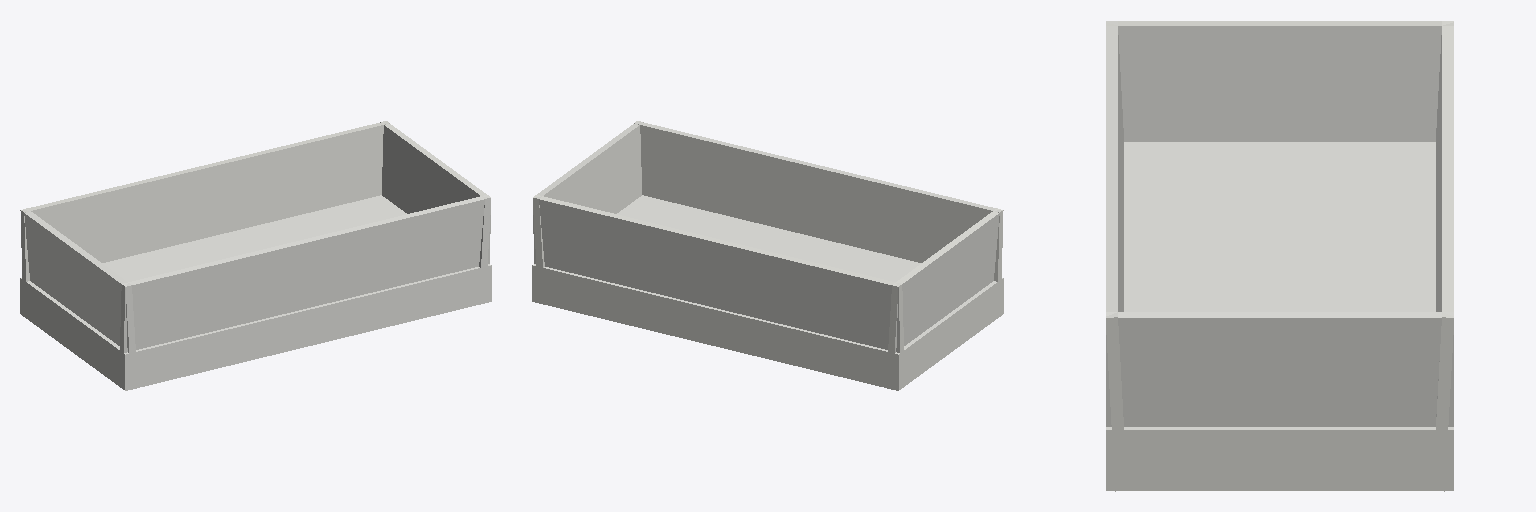
The robot description file, URDF, robot "cb_utensil_bin_hw":
<?xml version="1.0"?>
<!-- Wide chopstick tray: utensil_bin_h with side walls 25.0 mm further out per side (FoundationTouch
     tools/contactbench/make_tray_wide.py); collision = exact boxes, visual = the collision boxes (was: printed mesh scaled y x1.8784. -->
<robot name="cb_utensil_bin_hw">
  <material name="c"><color rgba="0.92 0.92 0.90 1.0"/></material>
  <link name="receptive">
    <visual><origin xyz="0.000000 0.000000 -0.009250" rpy="0.000000 0.000000 0.000000"/><geometry><box size="0.225487 0.112008 0.021500"/></geometry><material name="c"/></visual>
    <visual><origin xyz="0.000000 0.052461 0.010650" rpy="-0.050058 0.000000 0.000000"/><geometry><box size="0.225487 0.004000 0.061577"/></geometry><material name="c"/></visual>
    <visual><origin xyz="0.108821 0.000000 0.010625" rpy="0.000000 0.062319 0.000000"/><geometry><box size="0.004000 0.112008 0.061620"/></geometry><material name="c"/></visual>
    <visual><origin xyz="0.000000 -0.052461 0.010650" rpy="0.050058 0.000000 0.000000"/><geometry><box size="0.225487 0.004000 0.061577"/></geometry><material name="c"/></visual>
    <visual><origin xyz="-0.108821 0.000000 0.010625" rpy="0.000000 -0.062319 0.000000"/><geometry><box size="0.004000 0.112008 0.061620"/></geometry><material name="c"/></visual>
    <collision><origin xyz="0.000000 0.000000 -0.009250" rpy="0.000000 0.000000 0.000000"/><geometry><box size="0.225487 0.112008 0.021500"/></geometry></collision>
    <collision><origin xyz="0.000000 0.052461 0.010650" rpy="-0.050058 0.000000 0.000000"/><geometry><box size="0.225487 0.004000 0.061577"/></geometry></collision>
    <collision><origin xyz="0.108821 0.000000 0.010625" rpy="0.000000 0.062319 0.000000"/><geometry><box size="0.004000 0.112008 0.061620"/></geometry></collision>
    <collision><origin xyz="0.000000 -0.052461 0.010650" rpy="0.050058 0.000000 0.000000"/><geometry><box size="0.225487 0.004000 0.061577"/></geometry></collision>
    <collision><origin xyz="-0.108821 0.000000 0.010625" rpy="0.000000 -0.062319 0.000000"/><geometry><box size="0.004000 0.112008 0.061620"/></geometry></collision>
  </link>
</robot>

--- What the picture shows (computed from the rendered views, not written in the file) ---
The picture shows the robot from 3 angles, left to right: view 1: azimuth 30°, elevation 25°; view 2: azimuth 150°, elevation 25°; view 3: azimuth 270°, elevation 25°; orthographic projection.
Model cb_utensil_bin_hw with 1 links and 0 joints (none), rooted at receptive, posed every joint at zero.
Visible links, largest first — view 1: receptive; view 2: receptive; view 3: receptive.
Boxes of the visible links, box(x1,y1,x2,y2) form: receptive: box(20, 121, 491, 390); receptive: box(532, 121, 1003, 390); receptive: box(1106, 21, 1453, 491).
Size in the robot's own frame: 0.2255 by 0.112 by 0.0617 metres.
Geometry: primitives only (box / cylinder / sphere), no mesh files.
